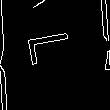L_E: (28, 35, 82, 75)
